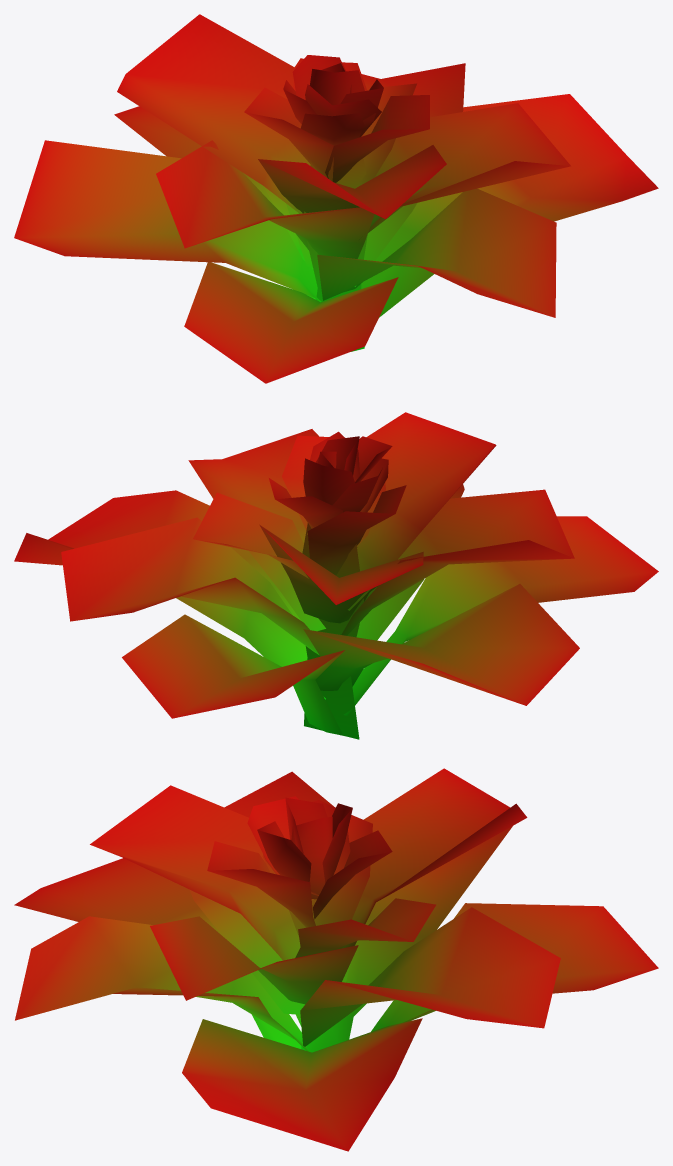
Rendered from White Ornamental Kale_LOD4_Var7_ue3ldcgja.fbx.
The picture shows the model from 3 angles, top to bottom: view 1: azimuth 30°, elevation 25°; view 2: azimuth 150°, elevation 25°; view 3: azimuth 270°, elevation 25°; orthographic projection. The views are drawn at different scales.
Visible parts, largest first — view 1: _363b_Var7_LOD4; view 2: _363b_Var7_LOD4; view 3: _363b_Var7_LOD4.
Part boxes in pixels (x1,y1,x2,y2): _363b_Var7_LOD4: (14,14,658,383); _363b_Var7_LOD4: (14,412,658,739); _363b_Var7_LOD4: (14,768,658,1151).
Size of the model in its own units: 60.46 by 30.04 by 57.16.
